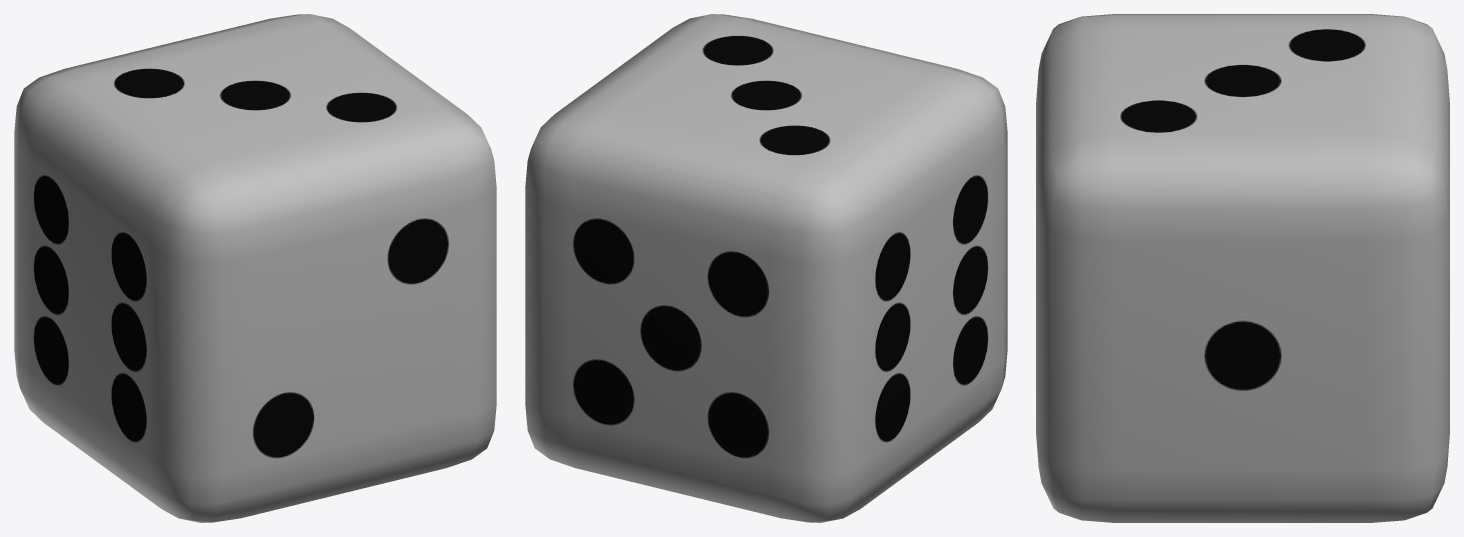
File: dice.glb
3 views of the same model, side by side, from view 1: azimuth 30°, elevation 25°; view 2: azimuth 150°, elevation 25°; view 3: azimuth 270°, elevation 25° (orthographic). The views are drawn at different scales.
Visible parts, largest first — view 1: Dice; view 2: Dice; view 3: Dice.
Boxes of the visible parts, bbox=[...] form: Dice: bbox=[14, 14, 496, 522]; Dice: bbox=[525, 14, 1007, 522]; Dice: bbox=[1036, 14, 1449, 522].
Bounding box in the file's own units: 0.6495 × 0.6495 × 0.6495.
1 material, 1 textured.
